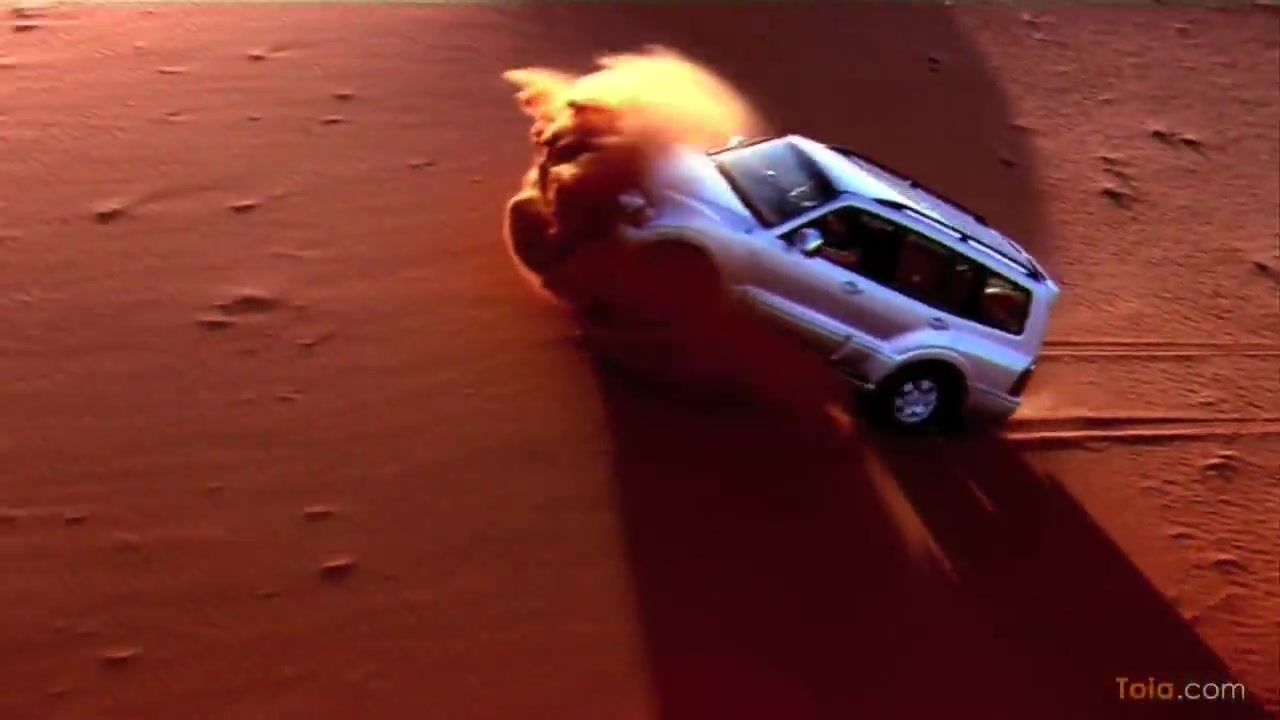car: (575, 126, 1059, 462)
